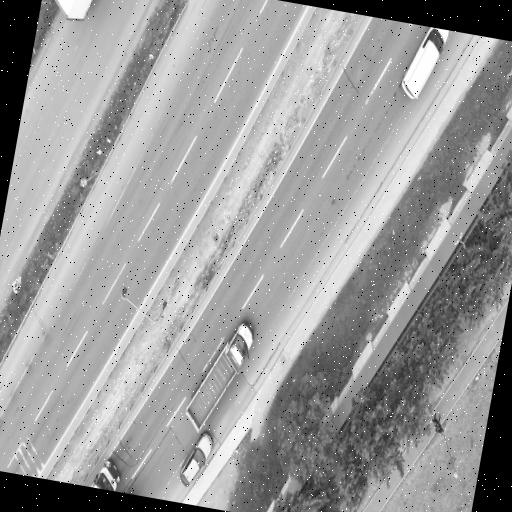car: (401, 27, 448, 98), (179, 432, 212, 485)
person: (431, 411, 442, 434)
truck: (185, 322, 252, 430), (89, 459, 119, 490), (55, 0, 91, 19)
